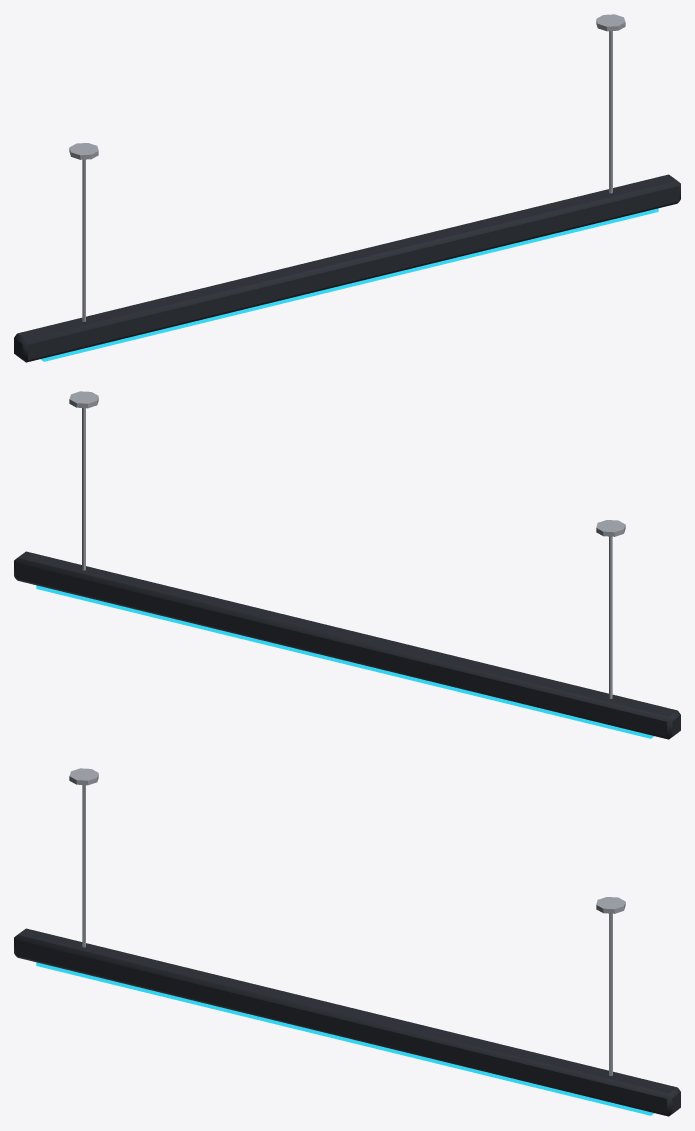
The model's file is striplight_hanging_linear_bar.glb.
3 renders of one model, top to bottom at view 1: azimuth 30°, elevation 25°; view 2: azimuth 150°, elevation 25°; view 3: azimuth 330°, elevation 25°, orthographic.
Visible parts, largest first — view 1: striplight_hanging_linear_bar; view 2: striplight_hanging_linear_bar; view 3: striplight_hanging_linear_bar.
Part boxes in pixels (x1,y1,x2,y2): striplight_hanging_linear_bar: [14, 14, 680, 362]; striplight_hanging_linear_bar: [14, 391, 680, 739]; striplight_hanging_linear_bar: [14, 768, 680, 1116].
Bounding box in the file's own units: 1.5 × 0.434 × 0.06.
